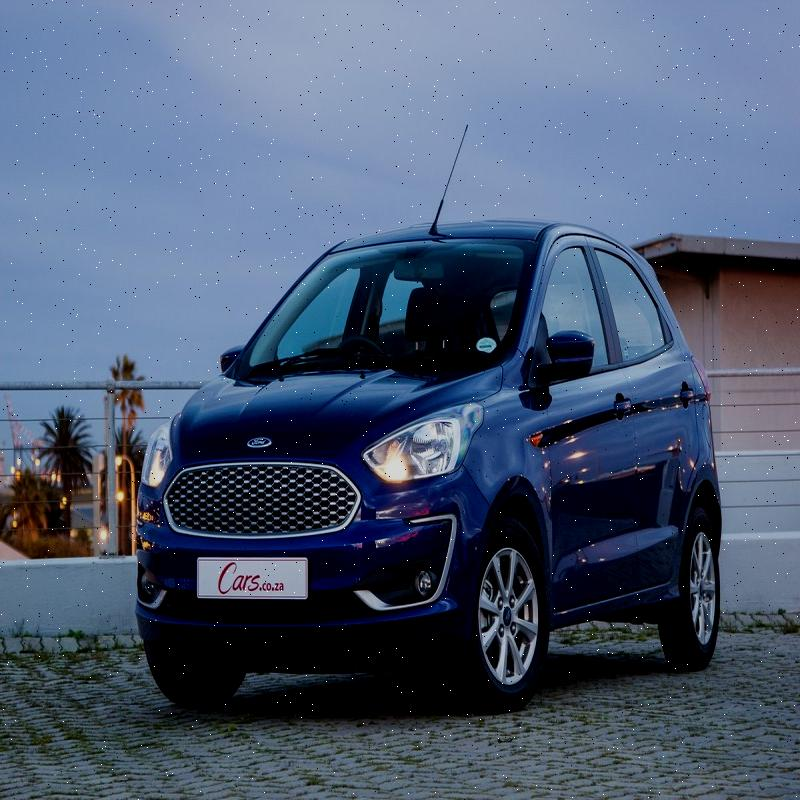car: (144, 206, 721, 715)
